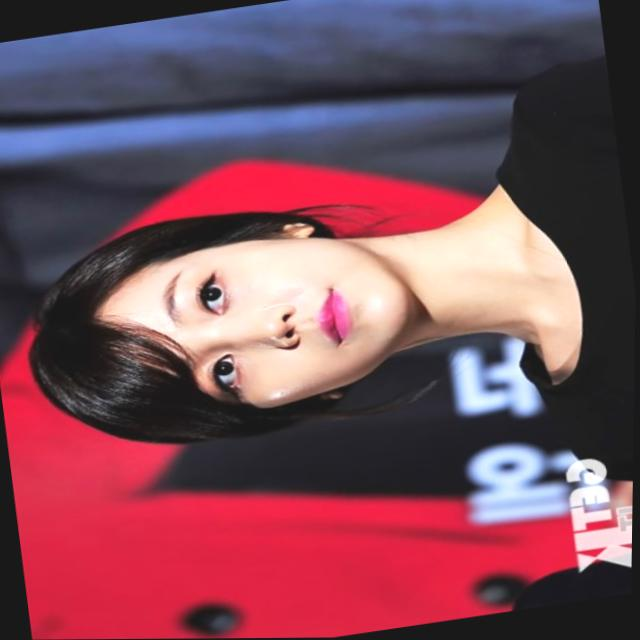face: (0, 74, 146, 143)
